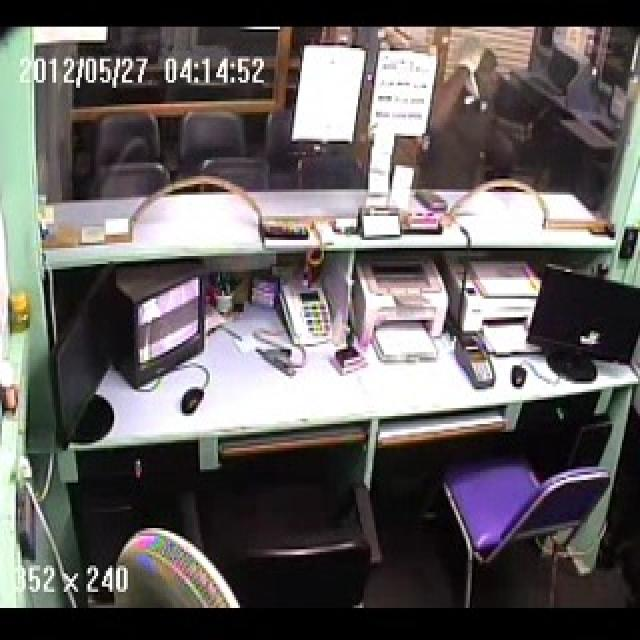thief: (432, 36, 508, 188)
